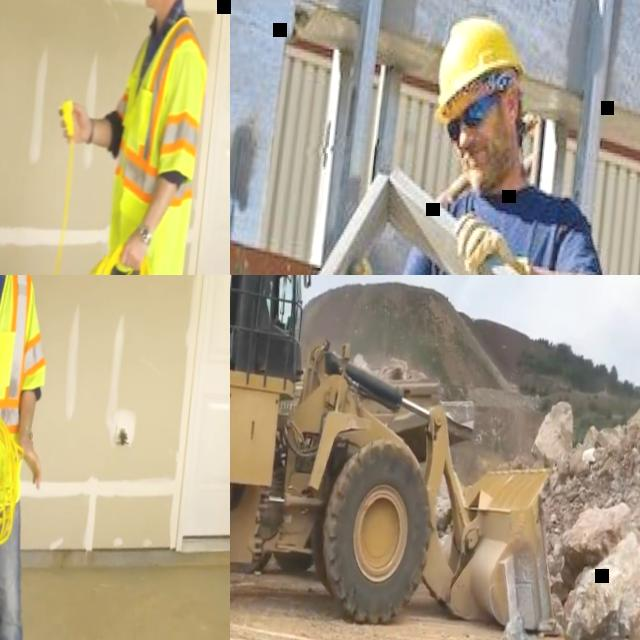Hardhat: (428, 9, 532, 122)
NO-Mask: (460, 141, 512, 186)
NO-Safety Vest: (408, 183, 570, 275)
Person: (314, 2, 635, 275), (18, 0, 230, 275), (0, 275, 90, 640), (260, 281, 282, 329)
Safety Vest: (107, 11, 213, 222), (0, 275, 57, 446)
vehicle: (230, 275, 599, 640)
